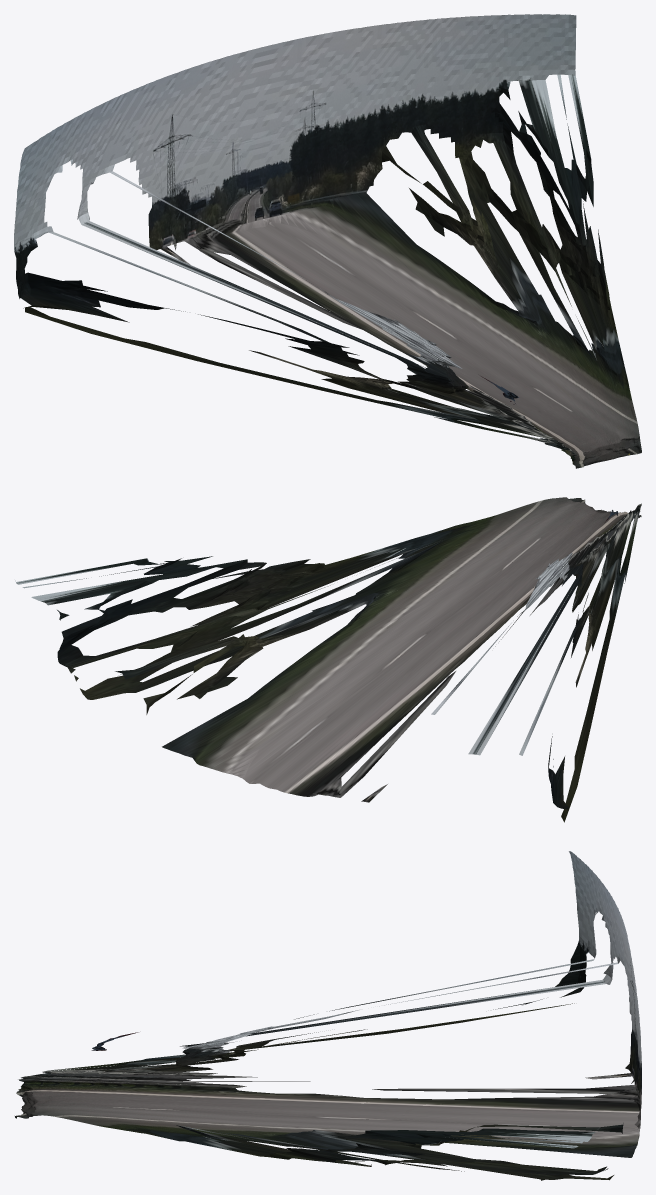
The picture shows the model from 3 angles, top to bottom: view 1: azimuth 30°, elevation 25°; view 2: azimuth 150°, elevation 25°; view 3: azimuth 270°, elevation 25°; orthographic projection. The views are drawn at different scales.
Visible parts, largest first — view 1: defaultobject; view 2: defaultobject; view 3: defaultobject.
Part boxes in pixels (x1,y1,x2,y2): defaultobject: (14,14,641,468); defaultobject: (15,497,641,822); defaultobject: (14,851,641,1180).
Size of the model in its own units: 41.03 by 12.85 by 44.74.
1 material, 1 textured.
